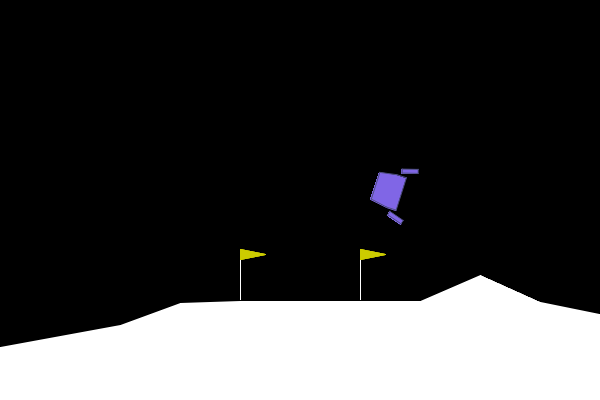lander: (364, 157, 420, 226)
